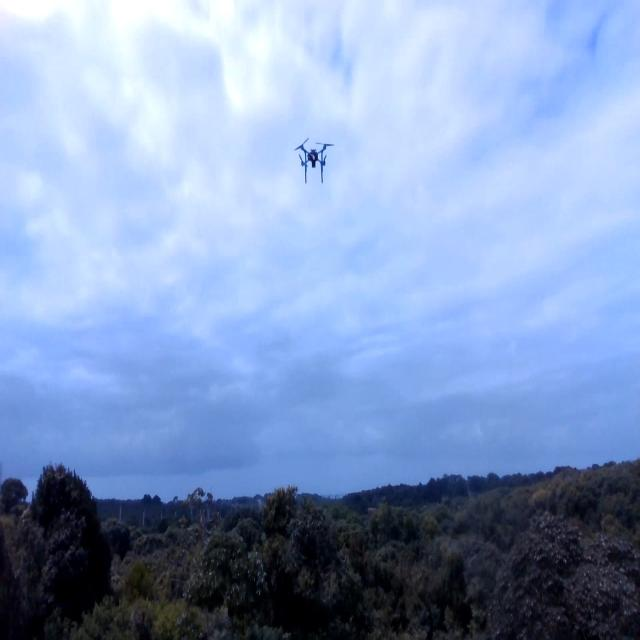-uav-: (294, 126, 343, 204)
